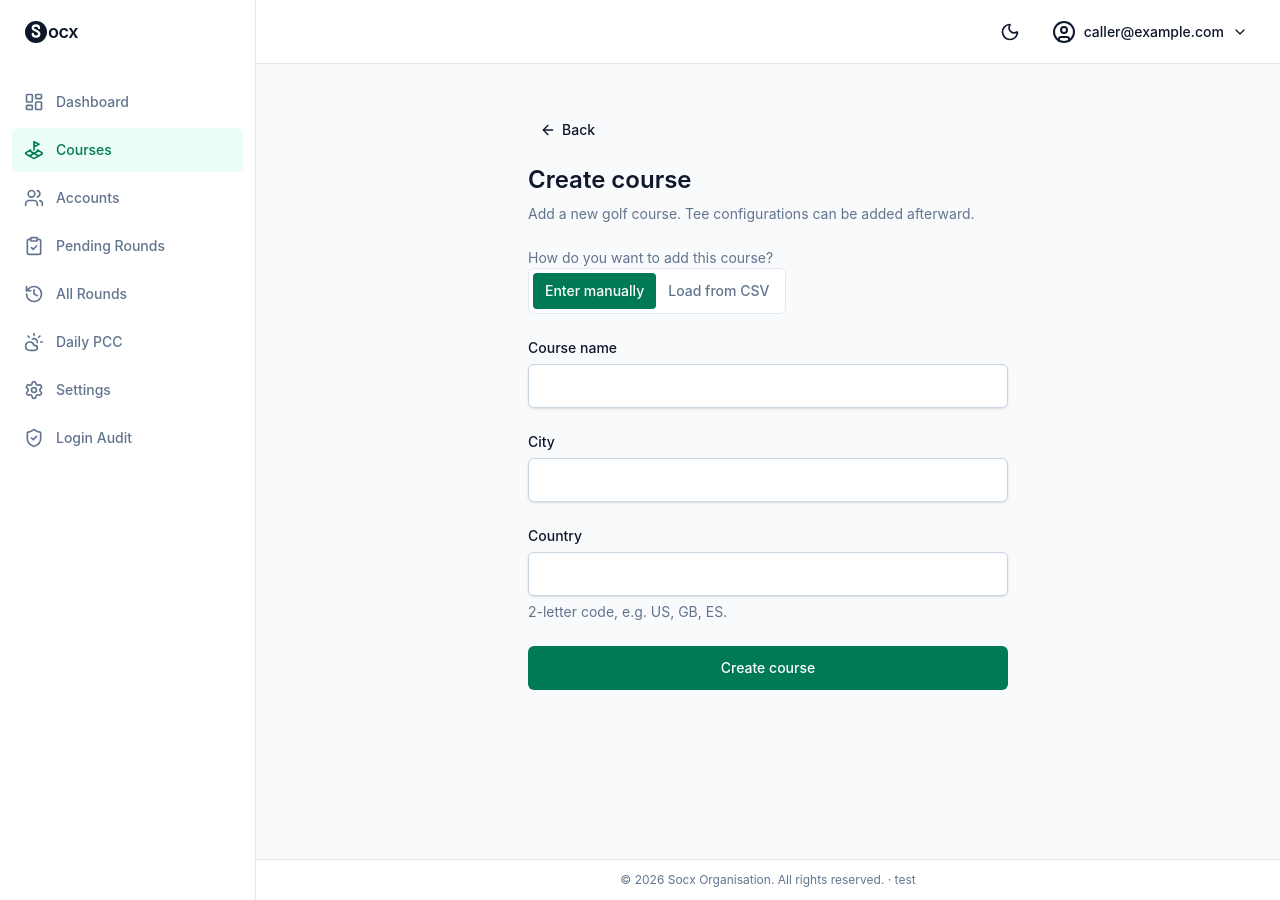
Test case: CreateCoursePage › omits city/country from the request when left blank
The image size is (1280, 900).
Type "Bare Course" into the field labelled "Course name".
click(768, 386); type("Bare Course")  # box 528,364 -> 1008,408
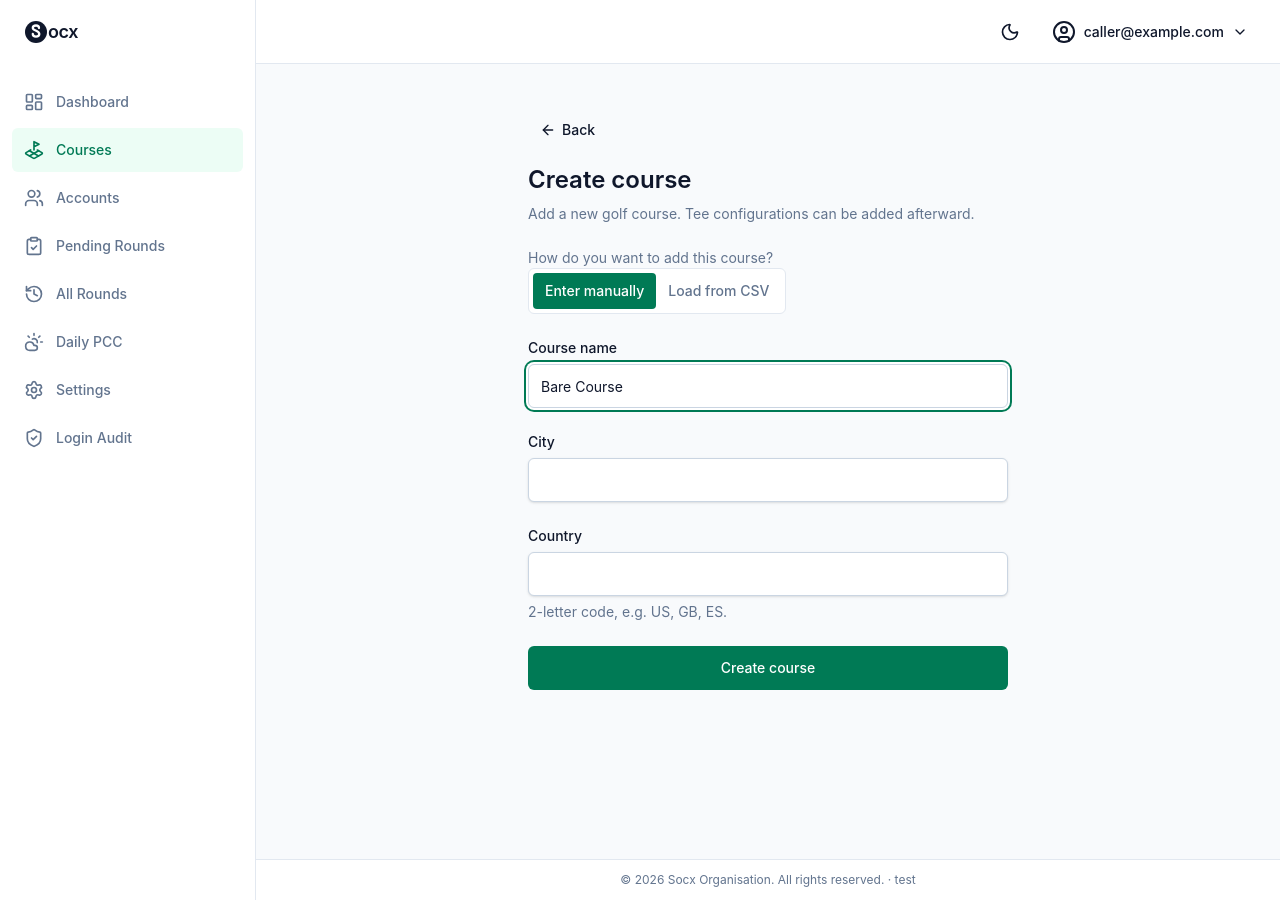
Click the button "Create course".
click(768, 668)  # box 528,646 -> 1008,690
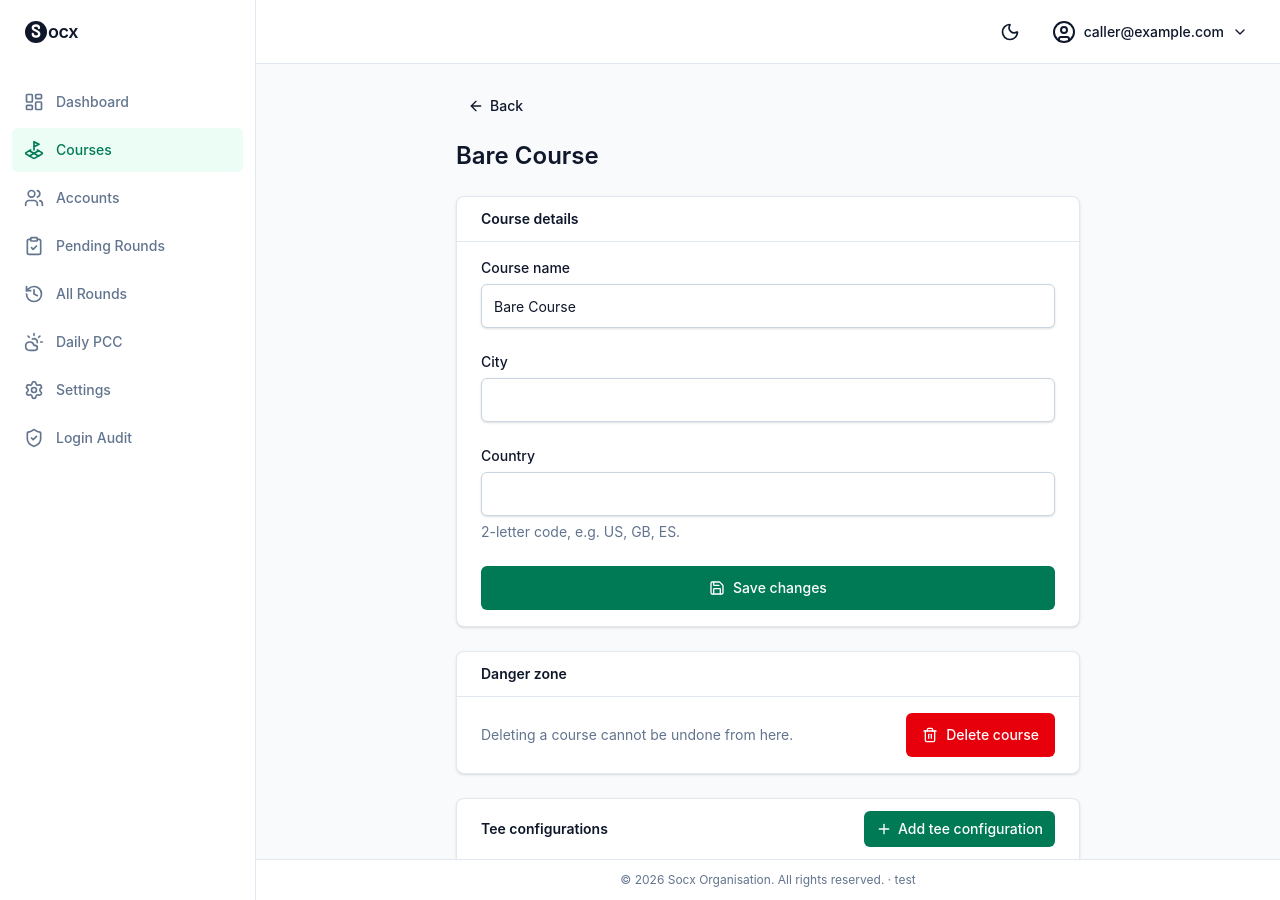
Expected: the heading "Bare Course" is shown, 456,141 -> 599,170
